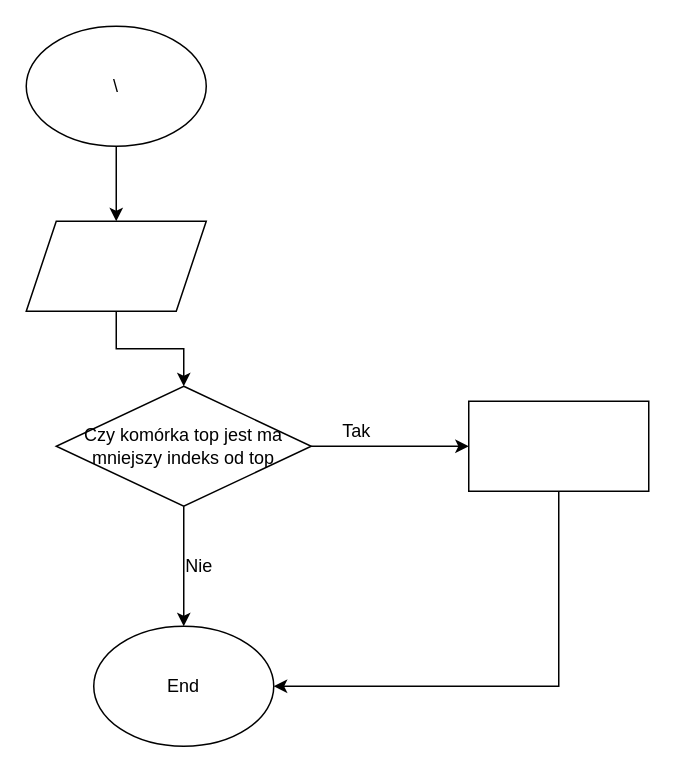
Image size: 675x773. Some labels were removed from this diagram. The centre of each missing label's shape, as x and y in pixels:
"Pobierz dane" belongs at pixel 115 265.
"Top zwiększ o jeden przypisz dane do komórki o indeksie top" belongs at pixel 558 445.
